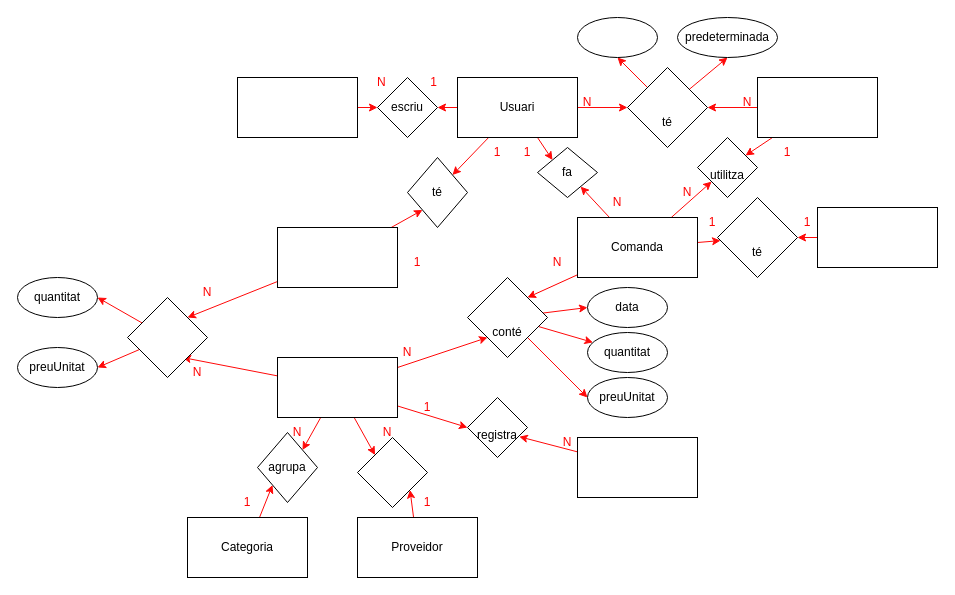
The diagram is 955 pixels wide and 595 high, and some of its shapes have lost their labels. The shapes that lost their labels are listed below. From the top down, each one's centre as x and y in pixels, then its label:
point (617, 37): tipus
point (297, 107): Ressenya
point (817, 107): Adreça
point (337, 257): Carrito
point (877, 237): Pagament
point (167, 337): inclou
point (337, 387): Producte
point (392, 472): subministra
point (637, 467): MovimentEstoc
